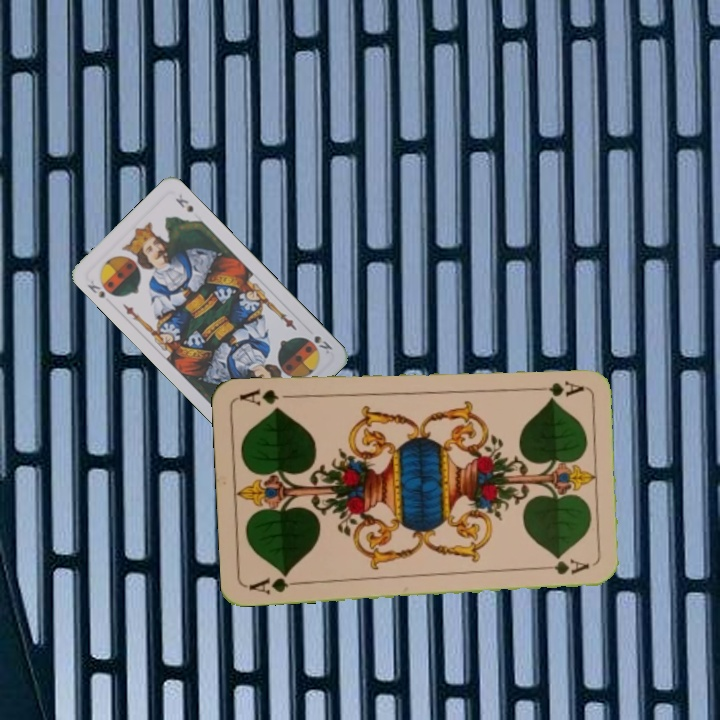GA: (245, 569, 304, 597), (526, 376, 585, 397)
SK: (83, 276, 107, 301), (310, 332, 335, 352)
